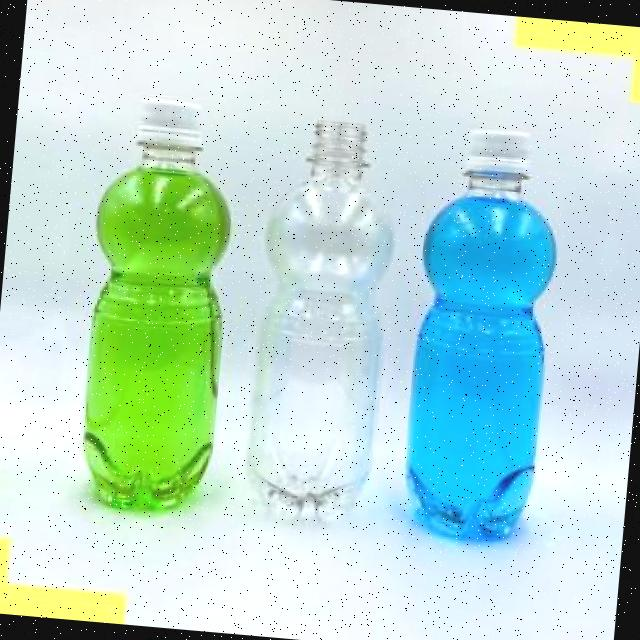bottle: (218, 92, 422, 568), (384, 111, 580, 561), (62, 84, 253, 542)
cap: (458, 118, 542, 192), (129, 92, 214, 162)
